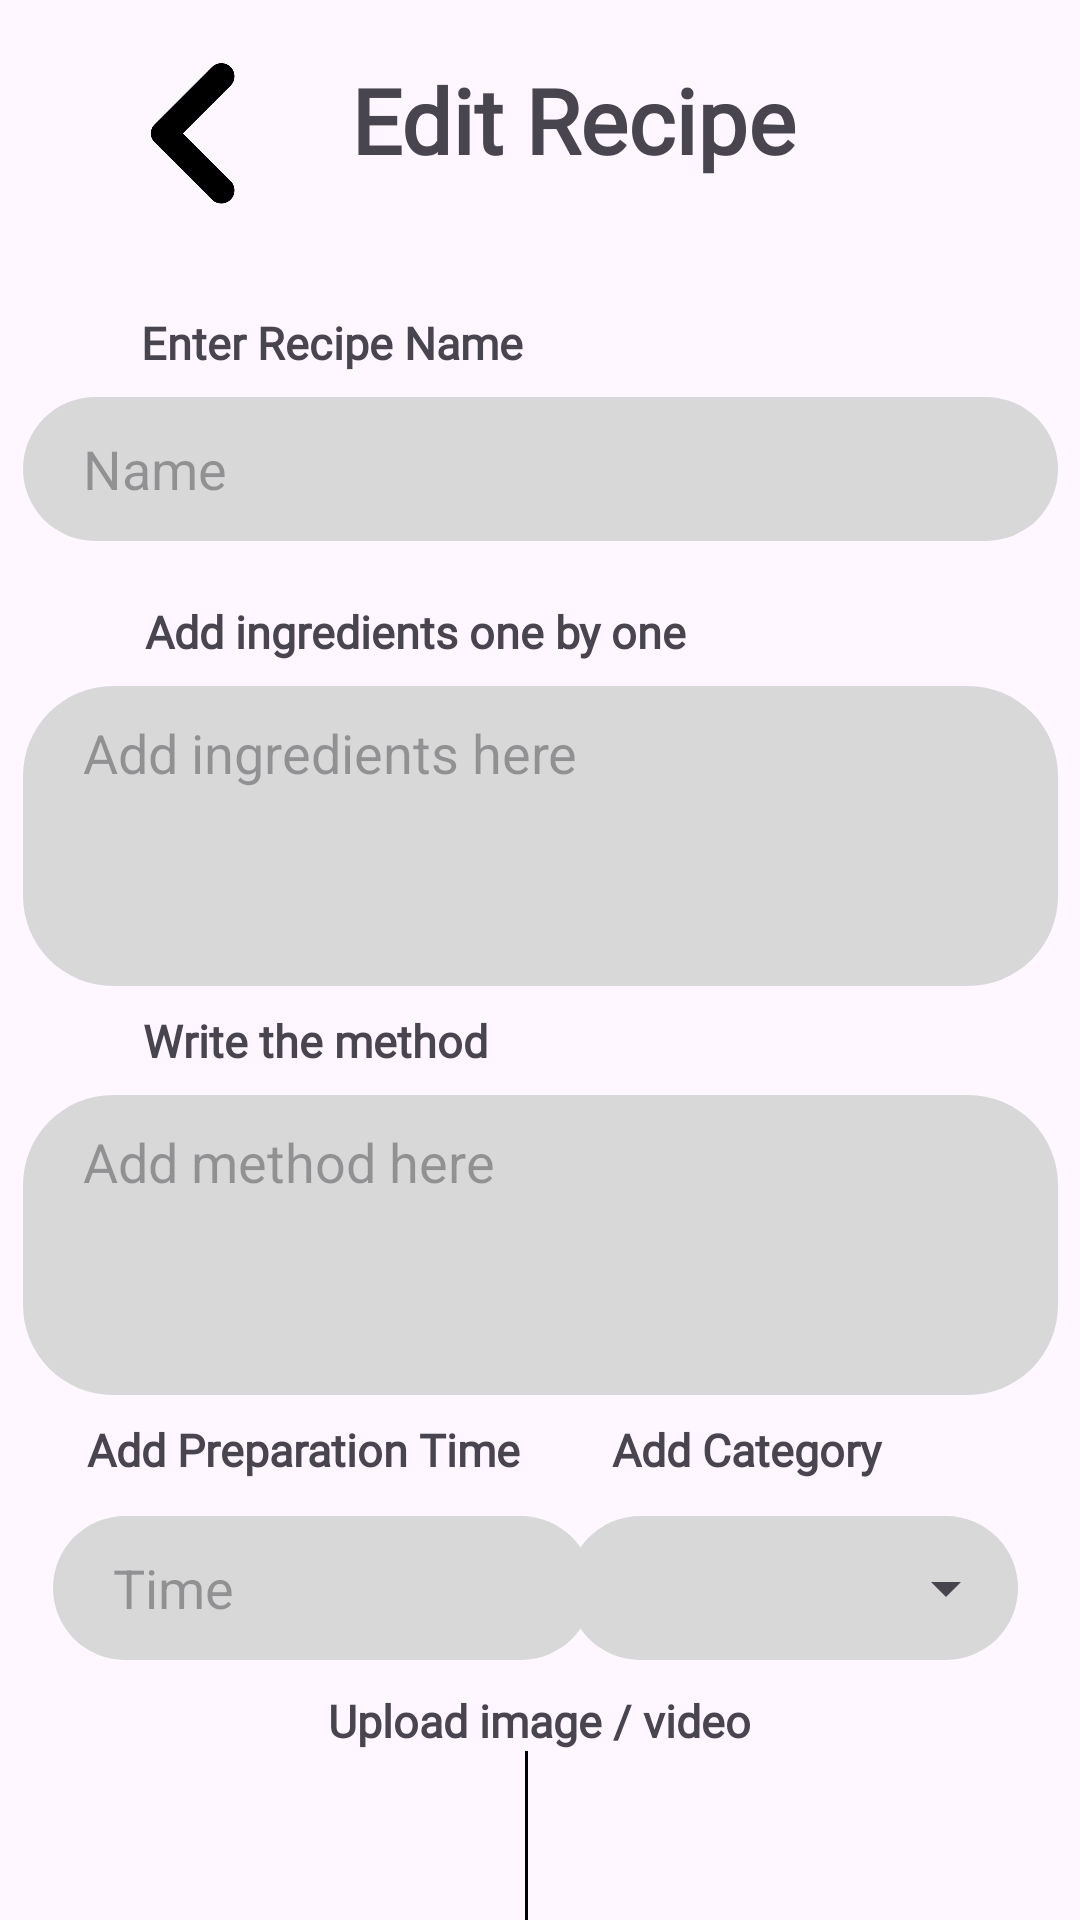

Screen size 1080w x 1920h. Icon name, then its box in pixels as [left=x1, top=y1, right=x2, bottom=y2]:
back: [left=151, top=63, right=235, bottom=204]
